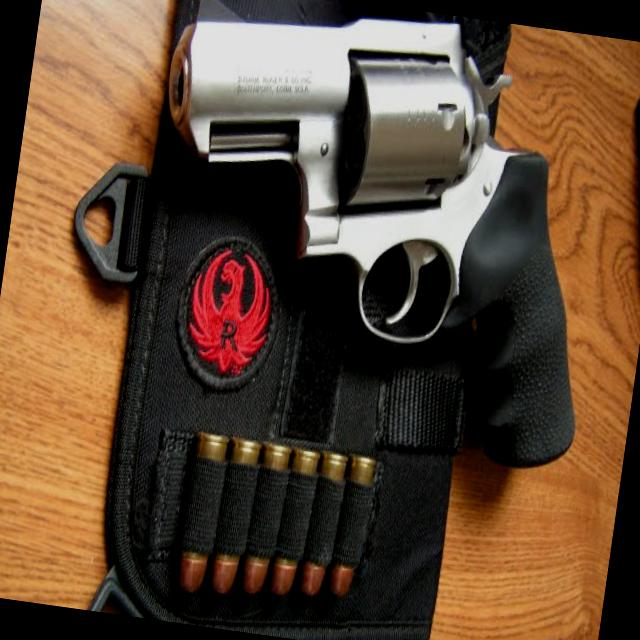handgun: (114, 0, 632, 477)
